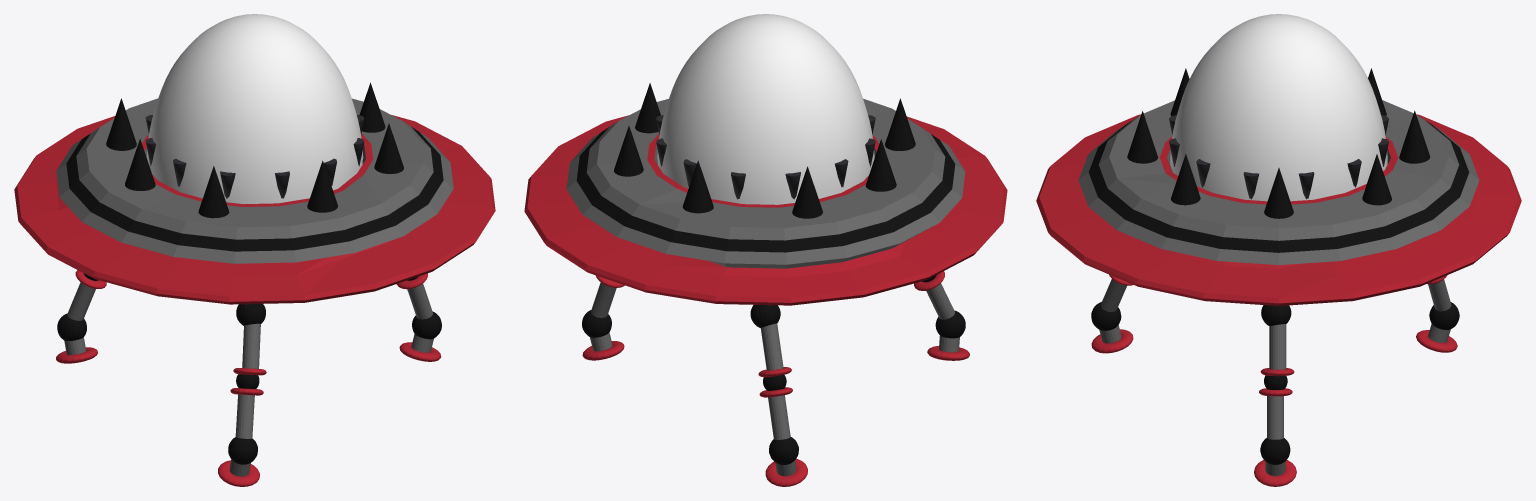
The model's file is glm53_t01.glb.
3 views of the same model, side by side, from view 1: azimuth 30°, elevation 25°; view 2: azimuth 150°, elevation 25°; view 3: azimuth 270°, elevation 25° (orthographic).
Visible parts, largest first — view 1: slot_anchor_saucer, canopy_dome, slot_legs; view 2: slot_anchor_saucer, canopy_dome, slot_legs; view 3: slot_anchor_saucer, canopy_dome, slot_legs.
Boxes of the visible parts, x1,y1,x2,y2 form: slot_anchor_saucer: (14,82,495,304); canopy_dome: (146,14,363,204); slot_legs: (56,270,441,486); slot_anchor_saucer: (524,83,1007,305); canopy_dome: (657,14,874,204); slot_legs: (582,271,969,486); slot_anchor_saucer: (1036,68,1521,305); canopy_dome: (1170,14,1387,201); slot_legs: (1091,274,1459,486).
Size of the model in its own units: 2 by 1.72 by 2.
3 materials, 1 textured.
